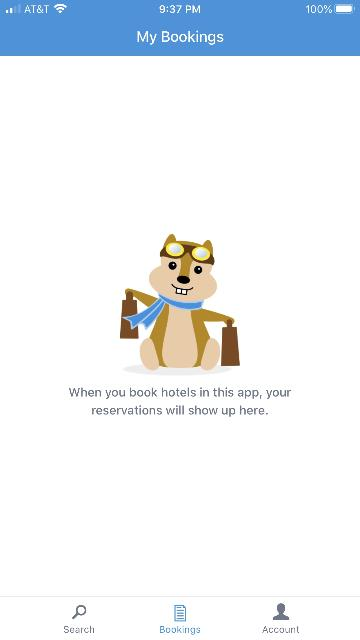Bottom_Navigation: (0, 596, 360, 640)
Icon: (273, 603, 289, 619), (72, 605, 86, 619), (174, 605, 185, 621)
Image: (120, 234, 240, 376)
Text: (70, 388, 290, 417), (137, 31, 223, 45), (160, 626, 200, 634), (262, 626, 298, 632), (64, 626, 94, 632)
TextImageButton: (160, 604, 200, 634), (263, 603, 299, 633), (64, 605, 94, 633)
UpperTaskBar: (0, 0, 360, 14)
